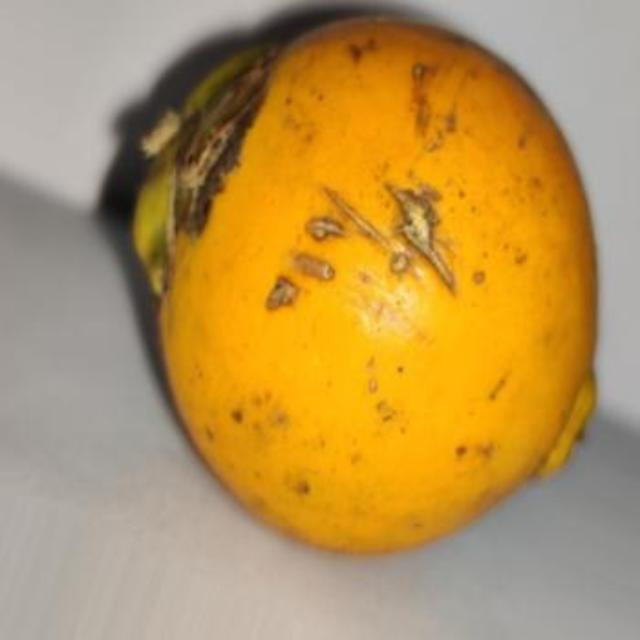good: (128, 13, 598, 558)
